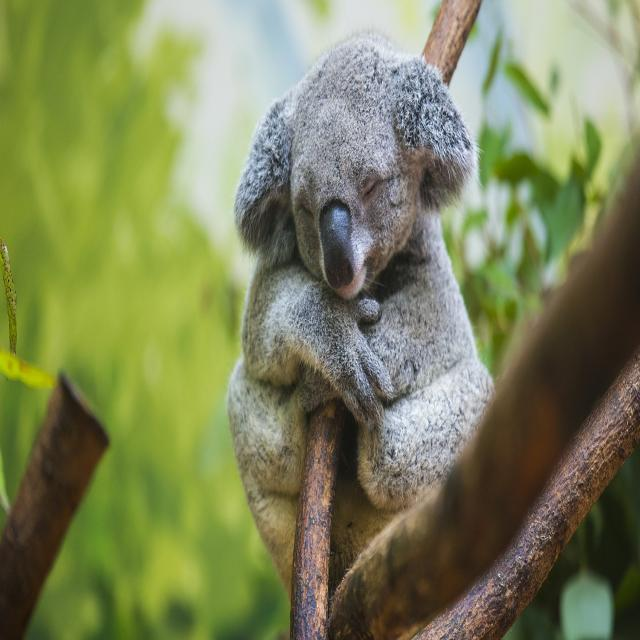Koala: (225, 33, 501, 598)
